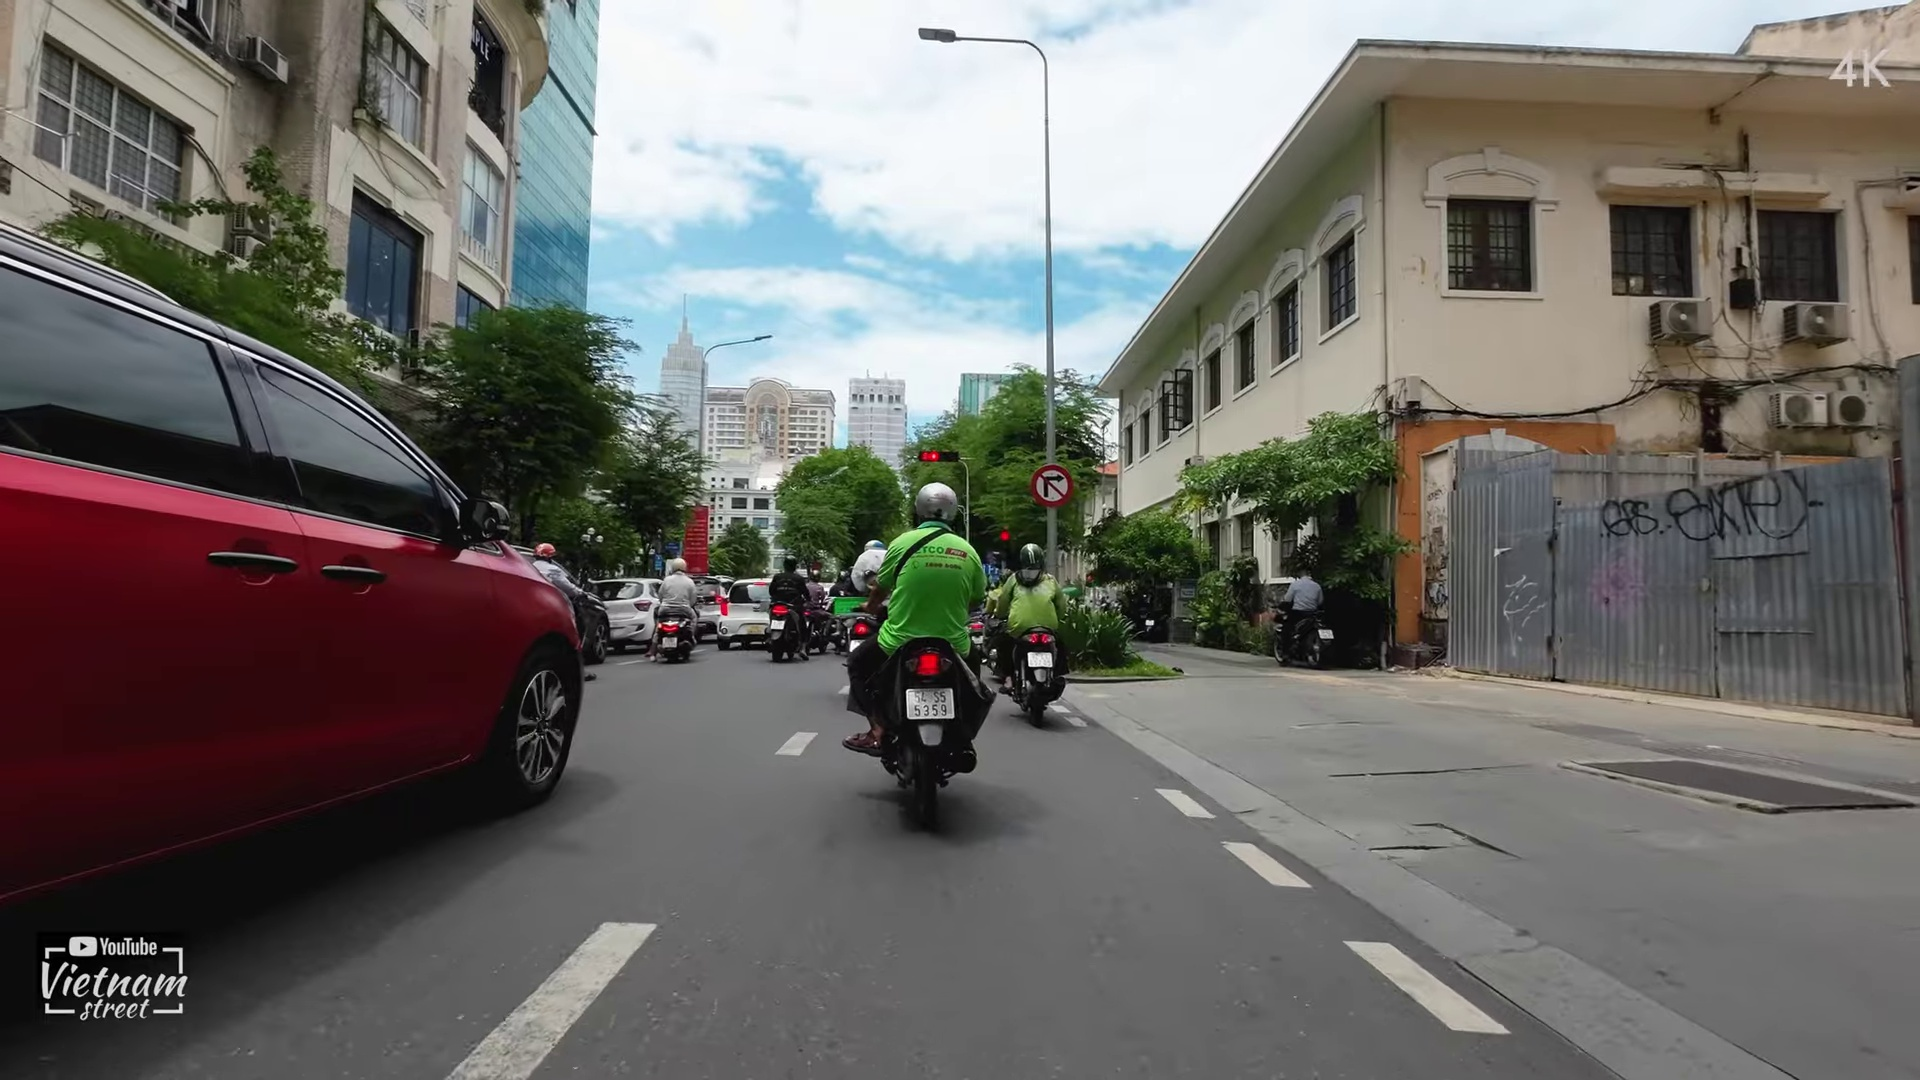cam_re_phai: (1027, 462, 1073, 510)
